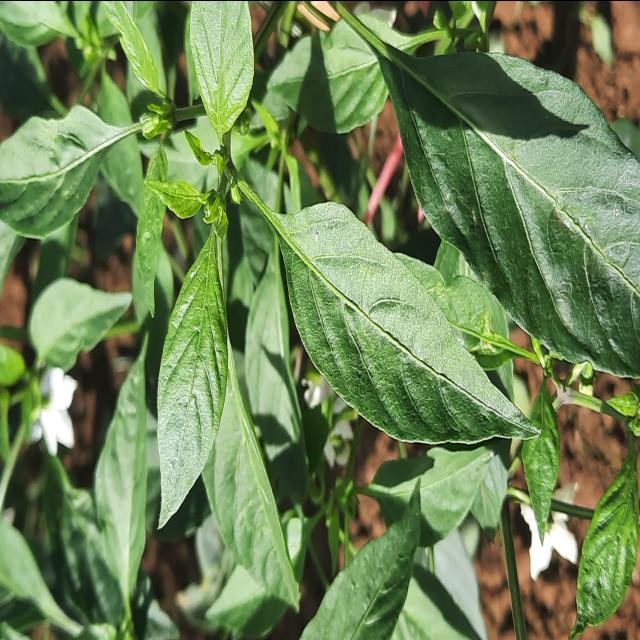sehat: (381, 17, 640, 393)
